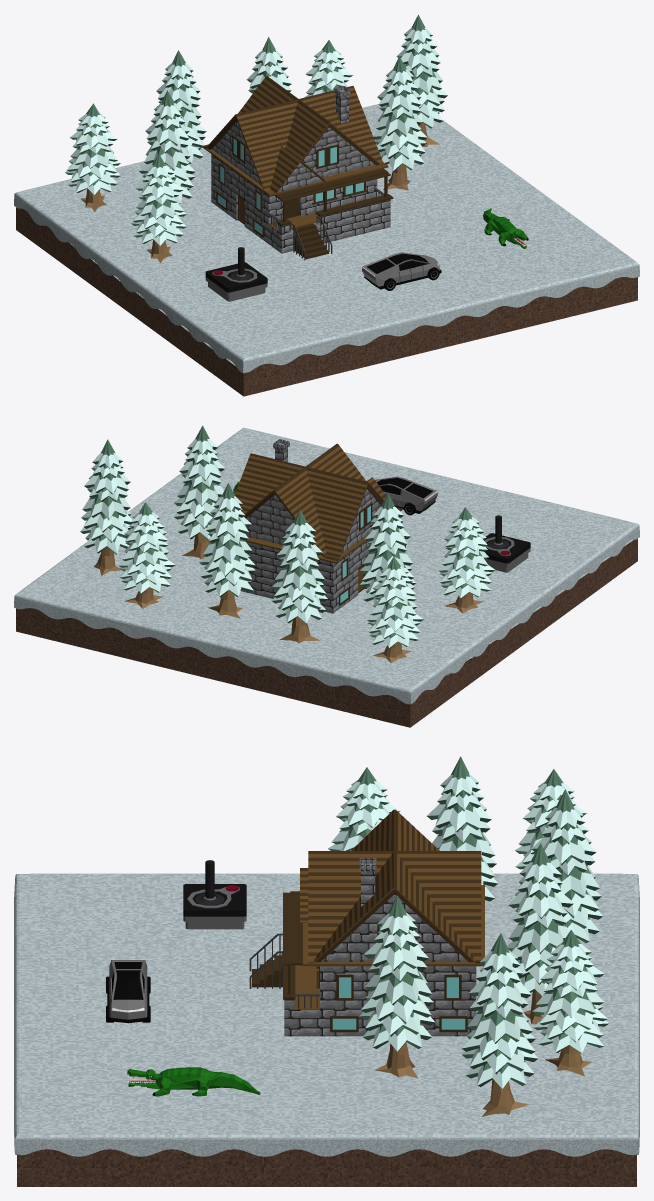
3 renders of one model, top to bottom at view 1: azimuth 30°, elevation 25°; view 2: azimuth 150°, elevation 25°; view 3: azimuth 270°, elevation 25°, orthographic. The views are drawn at different scales.
Visible parts, largest first — view 1: Cube.003, Cube.586, VEHICLES_CYBERTRUCK, OBJRANDOM_JOYSTICK, ANIMAL_COCODRILO; view 2: Cube.003, Cube.586, OBJRANDOM_JOYSTICK, VEHICLES_CYBERTRUCK; view 3: Cube.003, Cube.586, OBJRANDOM_JOYSTICK, VEHICLES_CYBERTRUCK, ANIMAL_COCODRILO.
Part boxes in pixels (x1,y1,x2,y2): Cube.003: [14, 14, 639, 396]; Cube.586: [202, 76, 393, 260]; VEHICLES_CYBERTRUCK: [362, 252, 441, 290]; OBJRANDOM_JOYSTICK: [205, 247, 267, 301]; ANIMAL_COCODRILO: [483, 208, 528, 248]; Cube.003: [14, 425, 639, 727]; Cube.586: [234, 439, 405, 613]; OBJRANDOM_JOYSTICK: [484, 515, 530, 572]; VEHICLES_CYBERTRUCK: [375, 476, 437, 515]; Cube.003: [14, 756, 639, 1186]; Cube.586: [249, 809, 484, 1036]; OBJRANDOM_JOYSTICK: [183, 860, 246, 929]; VEHICLES_CYBERTRUCK: [106, 959, 150, 1023]; ANIMAL_COCODRILO: [127, 1067, 260, 1096].
Bounding box in the file's own units: 4040 × 1670 × 4040.
33 materials, 4 textured.
